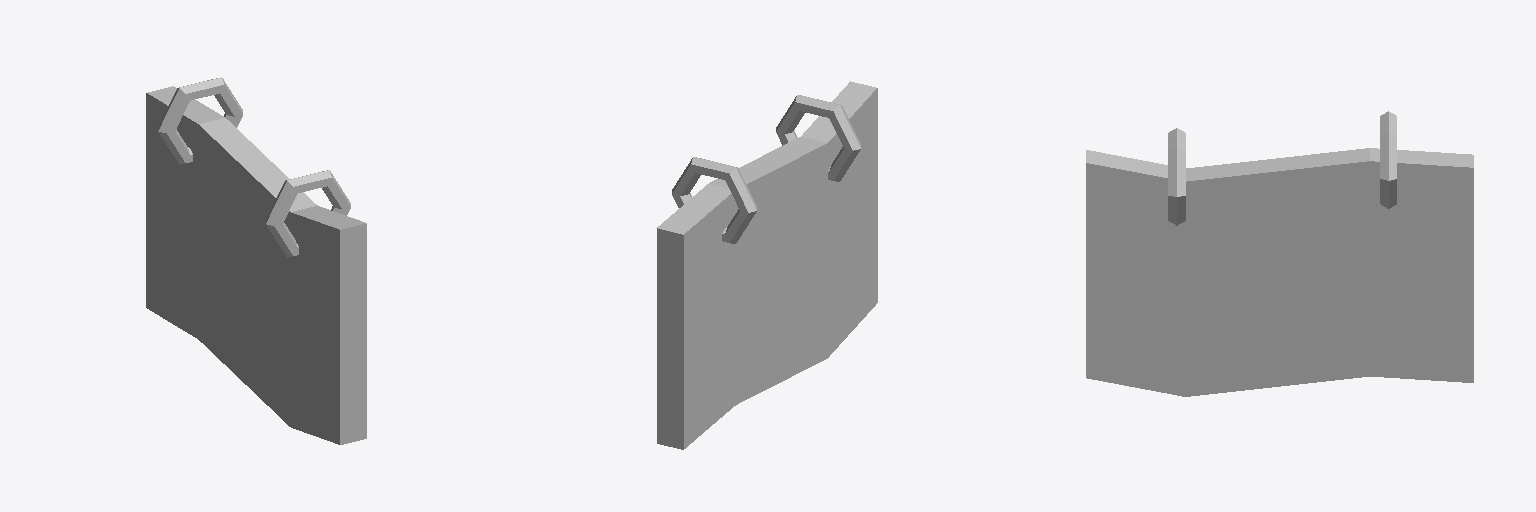
File: Sign.obj
3 views of the same model, side by side, from view 1: azimuth 30°, elevation 25°; view 2: azimuth 150°, elevation 25°; view 3: azimuth 270°, elevation 25° (orthographic).
Visible parts, largest first — view 1: Sign_Torus.009; view 2: Sign_Torus.009; view 3: Sign_Torus.009.
Part boxes in pixels (left/top/right/bottom): Sign_Torus.009: left=146, top=77, right=366, bottom=444; Sign_Torus.009: left=657, top=81, right=877, bottom=449; Sign_Torus.009: left=1086, top=111, right=1473, bottom=396.
Bounding box in the file's own units: 0.6145 × 1.81 × 2.37.